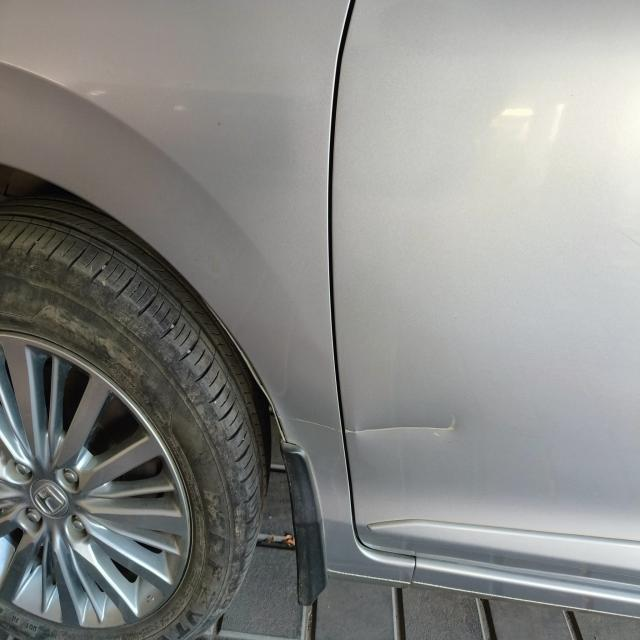scratch: (280, 409, 460, 439)
